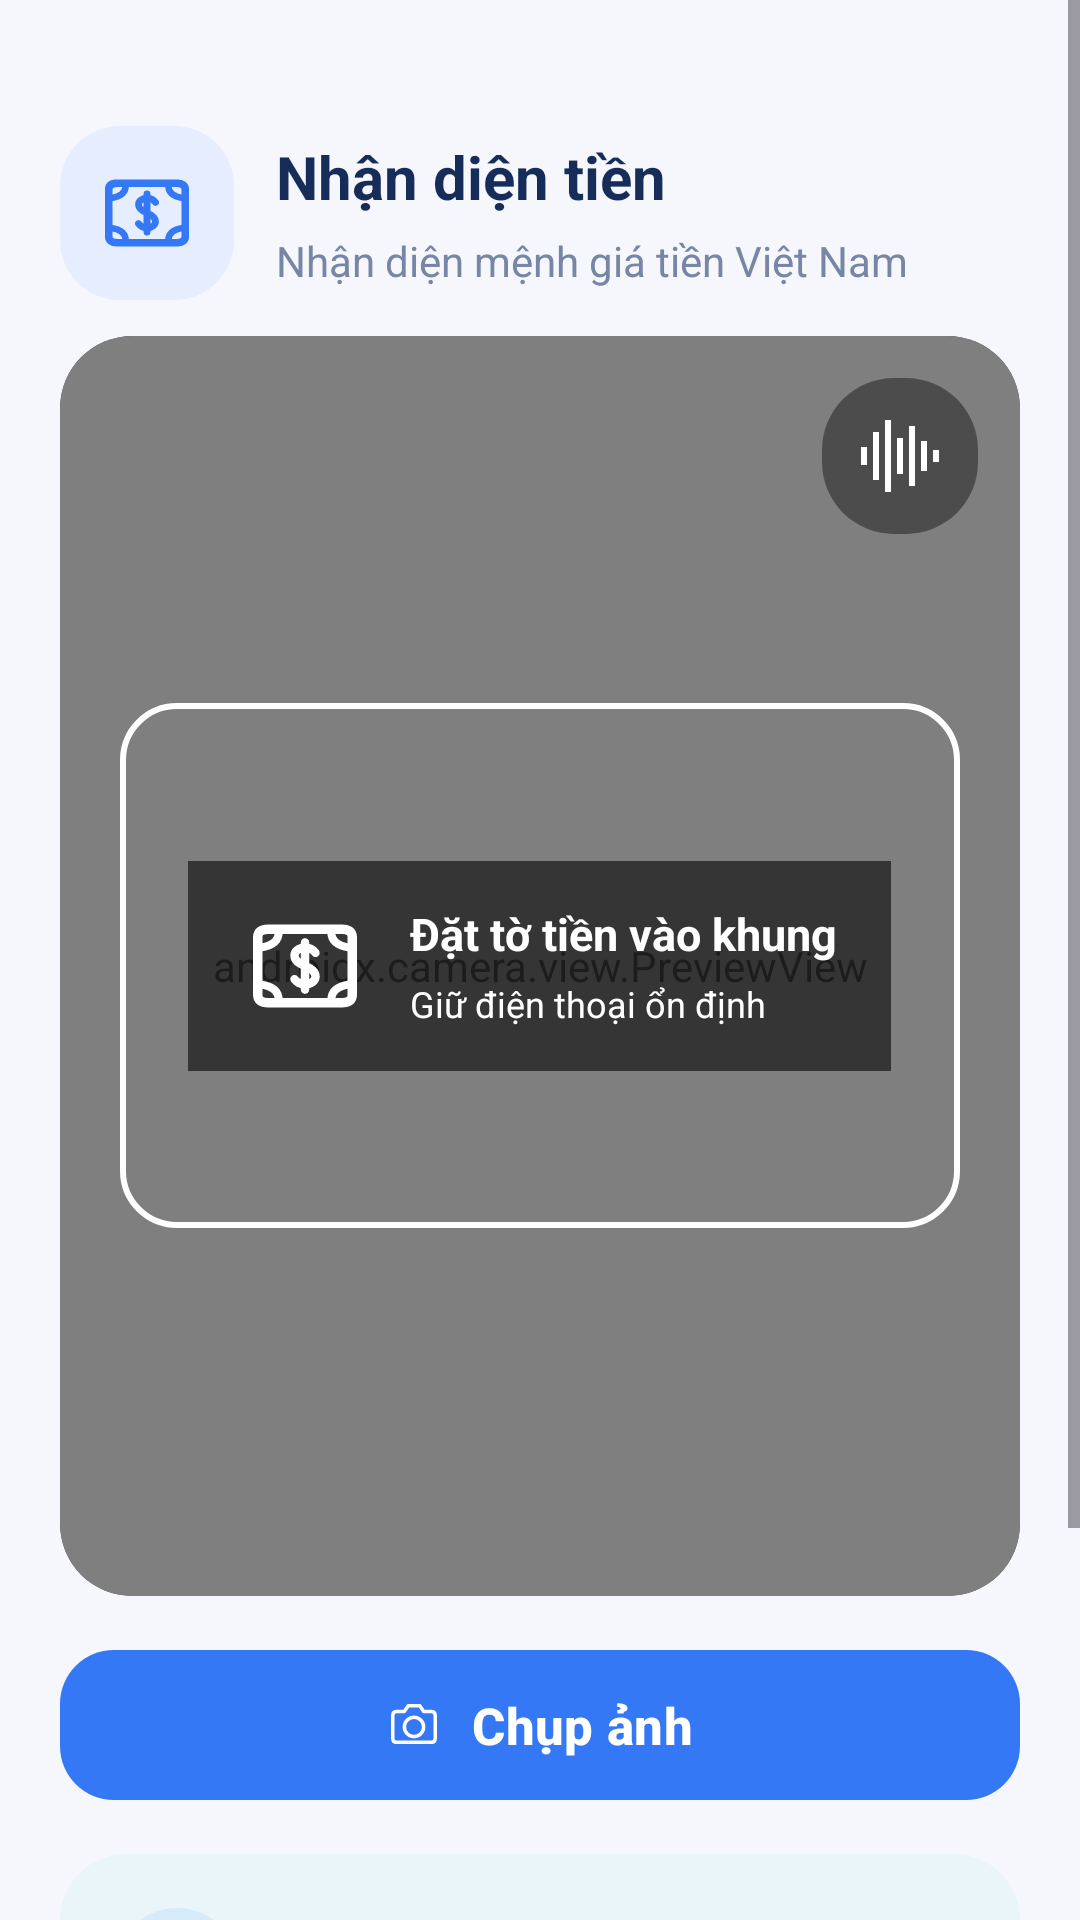

Screen size 1080*1920. Icon name, then its center in pixels as [x,y]:
Hình minh họa tờ tiền: [305,966]
Tắt đọc kết quả bằng giọng nói: [900,456]
